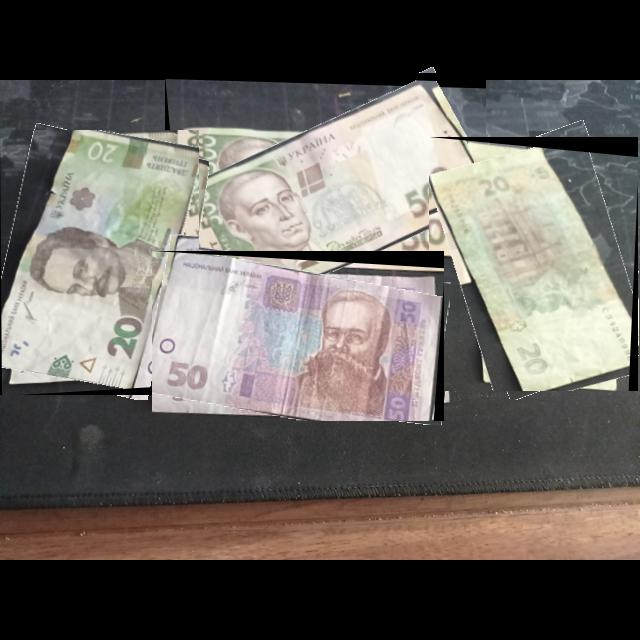20uah: (1, 130, 200, 391), (429, 146, 634, 392)
500uah: (174, 80, 487, 315)
50uah: (152, 252, 444, 422)
